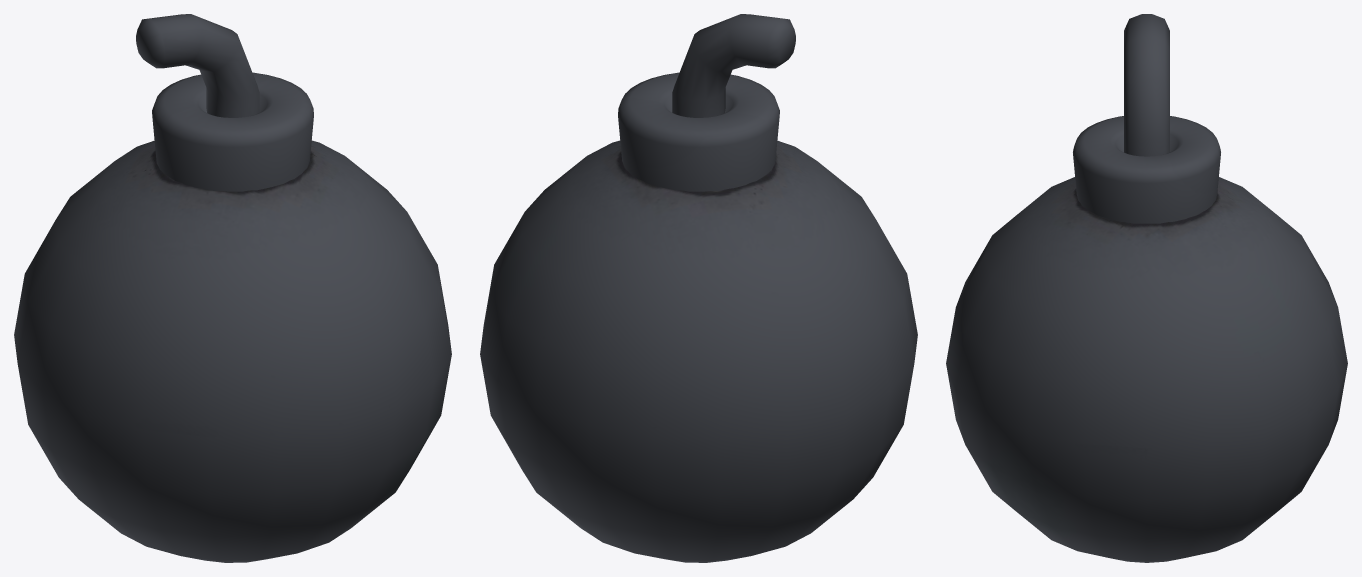
File: Boom.fbx
The picture shows the model from 3 angles, left to right: view 1: azimuth 30°, elevation 25°; view 2: azimuth 150°, elevation 25°; view 3: azimuth 270°, elevation 25°; orthographic projection. The views are drawn at different scales.
Parts seen in each view (by area): view 1: Sphere; view 2: Sphere; view 3: Sphere.
Boxes of the visible parts, box(x1,y1,x2,y2) form: Sphere: box(14, 14, 451, 562); Sphere: box(480, 14, 917, 562); Sphere: box(946, 14, 1347, 562).
Bounding box in the file's own units: 54.56 × 74.21 × 54.56.
Materials: 3 (3 with a texture image).
